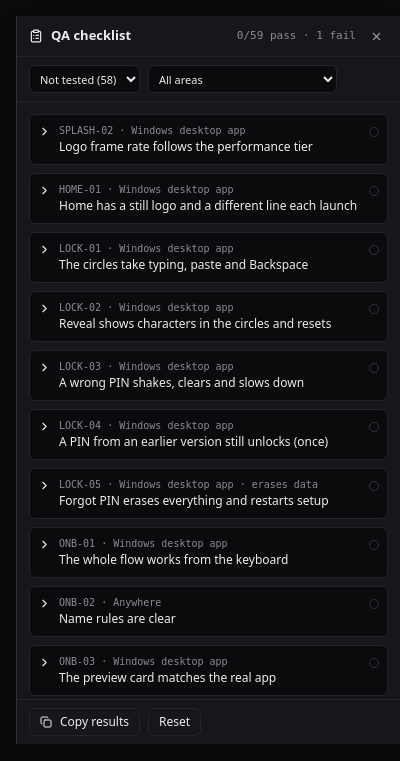
Test case: QaPanel › filters to failures
Select "Failed (1)" in the dropdown named "Filter by status" at (84, 79), box [29,65,140,93]
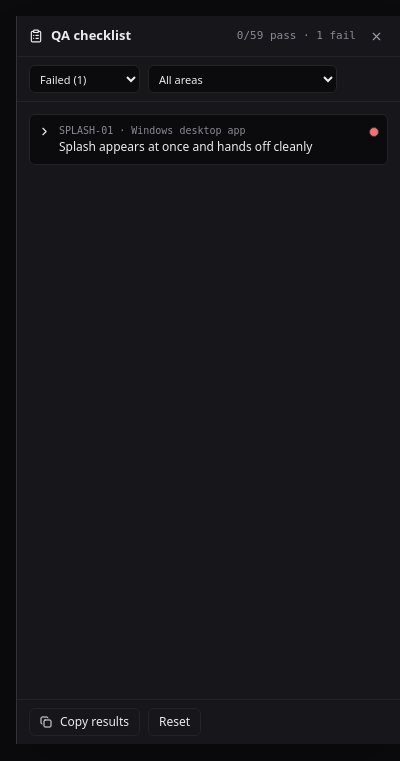
Result: the list item with test id "qa-item-SPLASH-01" is shown at [29,114,388,165]
Result: the list item with test id "qa-item-SPLASH-02" is gone
